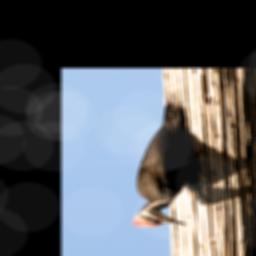Woodpecker: (131, 94, 210, 228)
